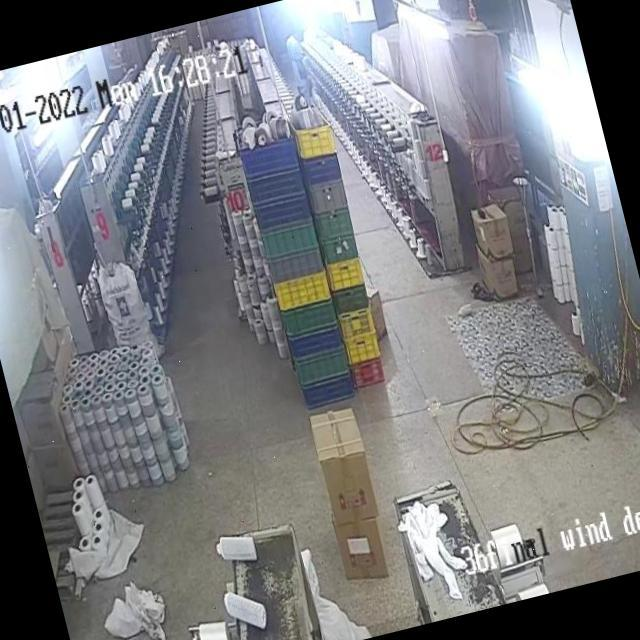person: (282, 25, 312, 96)
